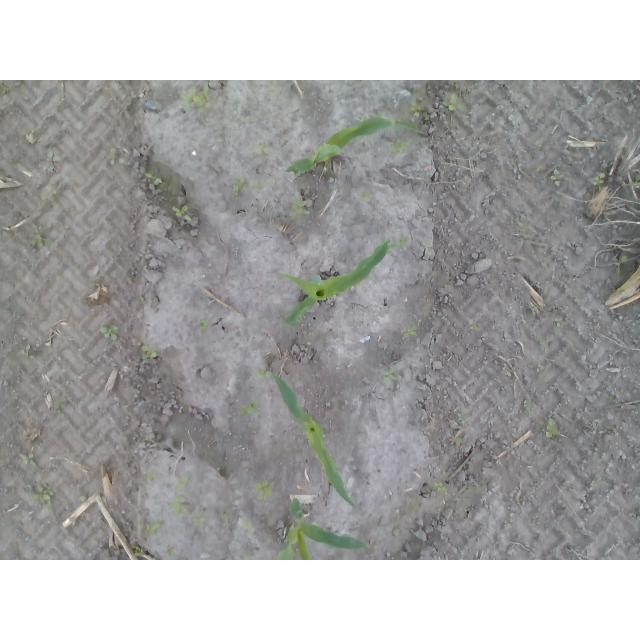Maize: (255, 371, 360, 514), (283, 240, 390, 329), (285, 117, 427, 180), (276, 497, 366, 560)
Weeds: (193, 509, 255, 530), (170, 471, 191, 517), (183, 80, 207, 113), (535, 164, 563, 188), (254, 479, 278, 501), (443, 91, 465, 113), (32, 482, 55, 503), (16, 448, 41, 466), (98, 322, 119, 343), (289, 198, 308, 218), (410, 98, 427, 120), (110, 149, 129, 168), (392, 233, 409, 254), (393, 140, 420, 153), (140, 344, 160, 361), (544, 417, 558, 439), (171, 205, 191, 220), (239, 401, 258, 416), (590, 172, 606, 189), (30, 232, 46, 249), (613, 253, 627, 272), (145, 520, 163, 534), (231, 177, 243, 197), (253, 142, 273, 154), (145, 172, 160, 187), (0, 82, 16, 96), (16, 343, 30, 358), (524, 398, 535, 417), (231, 95, 242, 114), (450, 436, 466, 449), (164, 545, 178, 559), (384, 369, 397, 384), (133, 546, 149, 558), (255, 369, 274, 379), (467, 319, 481, 331), (530, 304, 542, 317), (144, 468, 156, 481), (56, 398, 65, 415), (433, 481, 448, 491), (47, 186, 57, 201), (553, 316, 564, 329), (406, 326, 417, 339), (608, 390, 619, 402), (198, 318, 208, 331), (48, 150, 59, 161), (358, 189, 370, 199), (63, 225, 71, 240), (631, 174, 640, 186), (457, 412, 465, 422), (88, 280, 96, 290)
